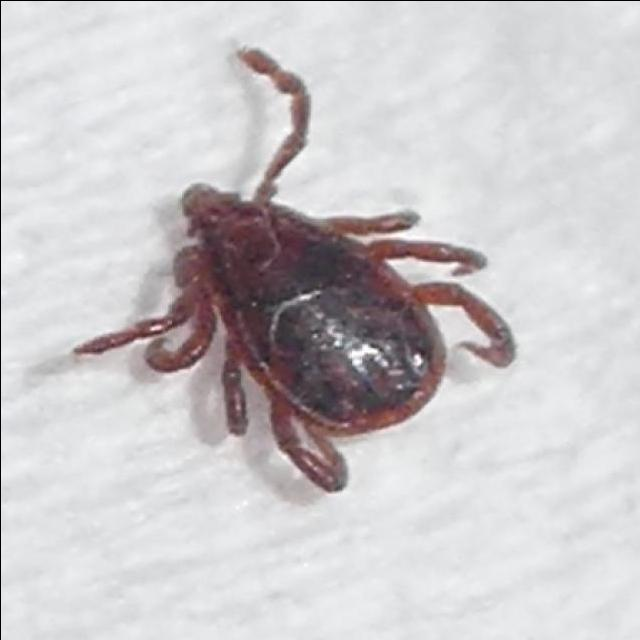Rhipicephalus Sanguineus-M: (71, 46, 516, 494)
